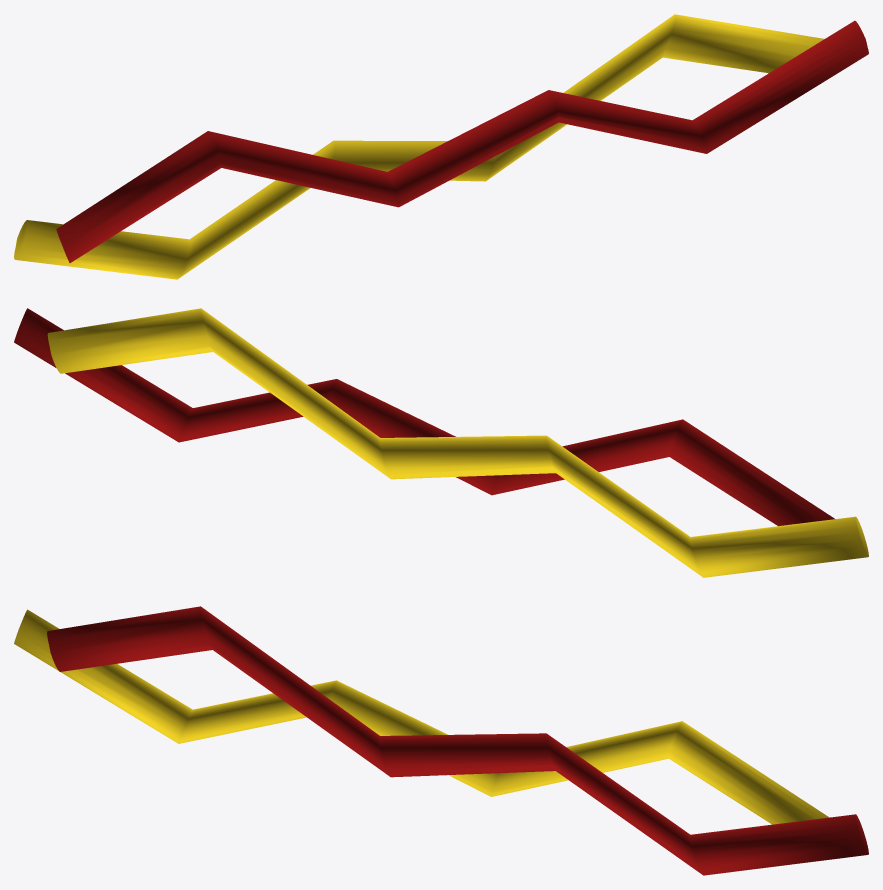
Rendered from ShotGuns.fbx.
The picture shows the model from 3 angles, top to bottom: view 1: azimuth 30°, elevation 25°; view 2: azimuth 150°, elevation 25°; view 3: azimuth 330°, elevation 25°; orthographic projection.
Visible parts, largest first — view 1: Ketchup001, Mayonesa001; view 2: Mayonesa001, Ketchup001; view 3: Ketchup001, Mayonesa001.
Boxes of the visible parts, x1=… form: Ketchup001: x1=56, y1=20, x2=868, y2=262; Mayonesa001: x1=14, y1=14, x2=824, y2=279; Mayonesa001: x1=47, y1=308, x2=868, y2=577; Ketchup001: x1=14, y1=308, x2=834, y2=526; Ketchup001: x1=47, y1=606, x2=868, y2=875; Mayonesa001: x1=14, y1=609, x2=829, y2=824.
Bounding box in the file's own units: 0.8995 × 0.1476 × 0.0208.
